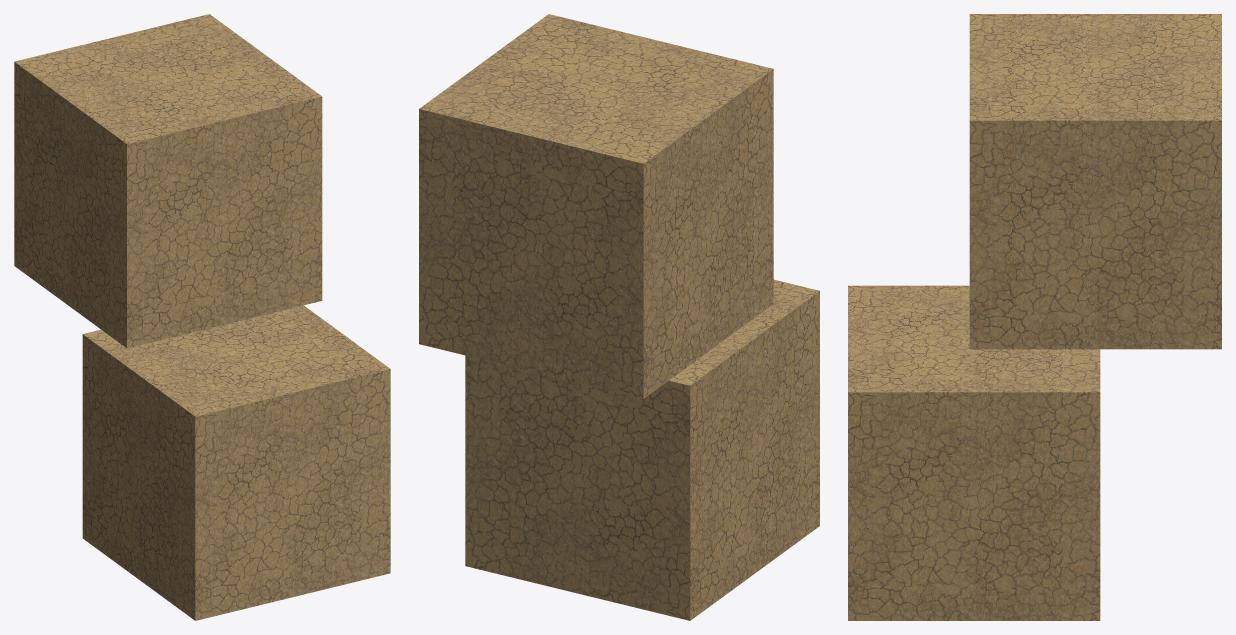
File: cubes.dae
The picture shows the model from 3 angles, left to right: view 1: azimuth 30°, elevation 25°; view 2: azimuth 150°, elevation 25°; view 3: azimuth 270°, elevation 25°; orthographic projection. The views are drawn at different scales.
Parts seen in each view (by area): view 1: Cube_001, Cube; view 2: Cube_001, Cube; view 3: Cube_001, Cube.
Part boxes in pixels (x1,y1,x2,y2): Cube_001: [14, 14, 322, 348]; Cube: [82, 305, 390, 620]; Cube_001: [419, 14, 773, 398]; Cube: [465, 279, 819, 620]; Cube_001: [969, 14, 1221, 349]; Cube: [848, 285, 1100, 620].
Size of the model in its own units: 2.14 by 2.96 by 4.31.
1 material, 1 textured.
